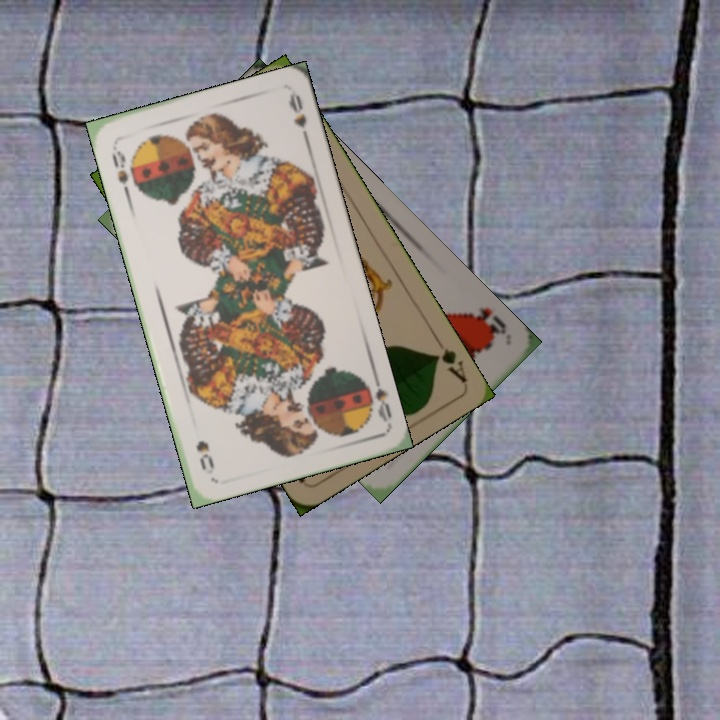GA: (428, 332, 470, 385)
HO: (465, 303, 509, 341)
SO: (357, 368, 395, 425), (107, 139, 132, 199)
